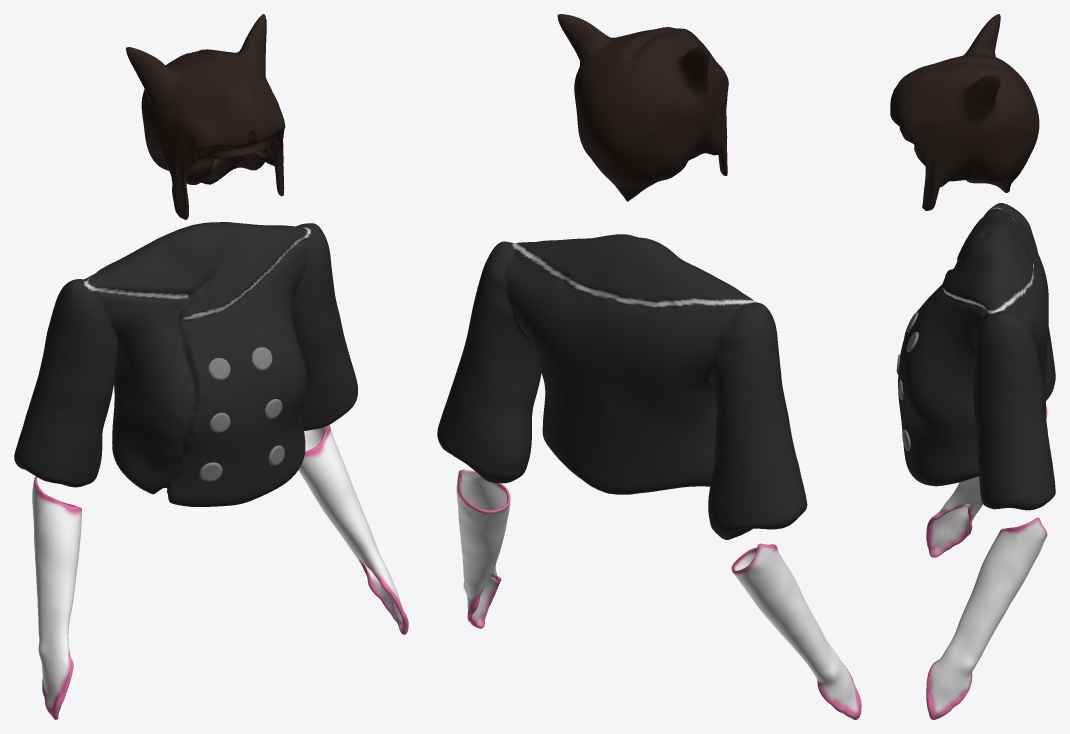
The model's file is frenchPreppy-top.fbx.
The picture shows the model from 3 angles, left to right: view 1: azimuth 30°, elevation 25°; view 2: azimuth 150°, elevation 25°; view 3: azimuth 270°, elevation 25°; orthographic projection. The views are drawn at different scales.
Visible parts, largest first — view 1: coat1, french preppy hair1, sleeves1, buttons1; view 2: coat1, french preppy hair1, sleeves1; view 3: coat1, french preppy hair1, sleeves1, buttons1.
Boxes of the visible parts, x1,y1,x2,y2 form: coat1: [14, 222, 357, 506]; french preppy hair1: [126, 14, 285, 219]; sleeves1: [32, 425, 408, 719]; buttons1: [199, 347, 284, 481]; coat1: [437, 234, 807, 539]; french preppy hair1: [557, 14, 728, 201]; sleeves1: [456, 469, 861, 719]; coat1: [898, 203, 1055, 510]; french preppy hair1: [890, 14, 1039, 210]; sleeves1: [926, 405, 1047, 719]; buttons1: [896, 312, 918, 450].
Size of the model in its own units: 3.14 by 5.26 by 1.33.
